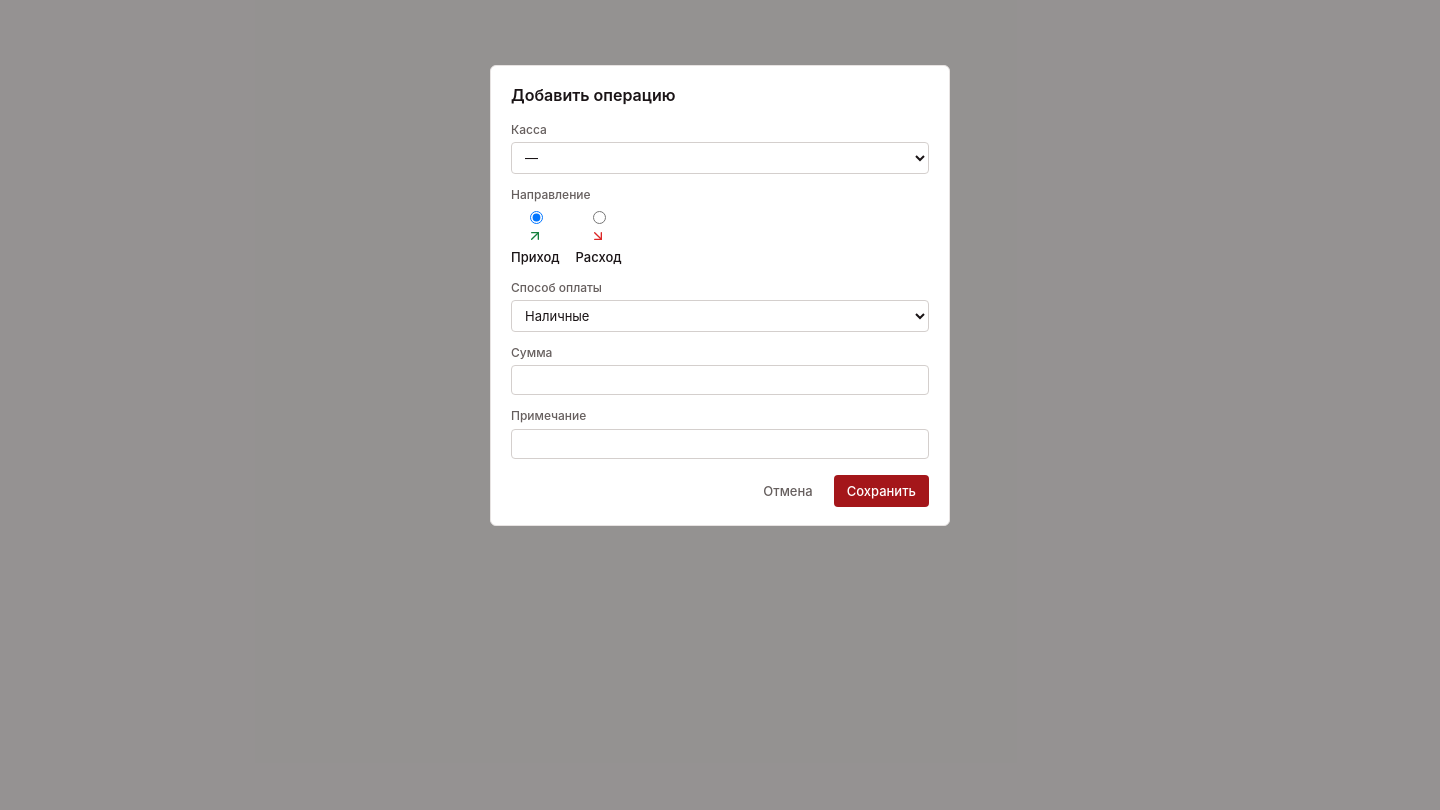
CashOperationModal › показывает ErrorBanner при insufficient_funds
The width and height of the screenshot is (1440, 810).
Select "Основная · Кафе Восток" in the dropdown labelled "Касса" at x=720, y=158, box [511,142,929,174]
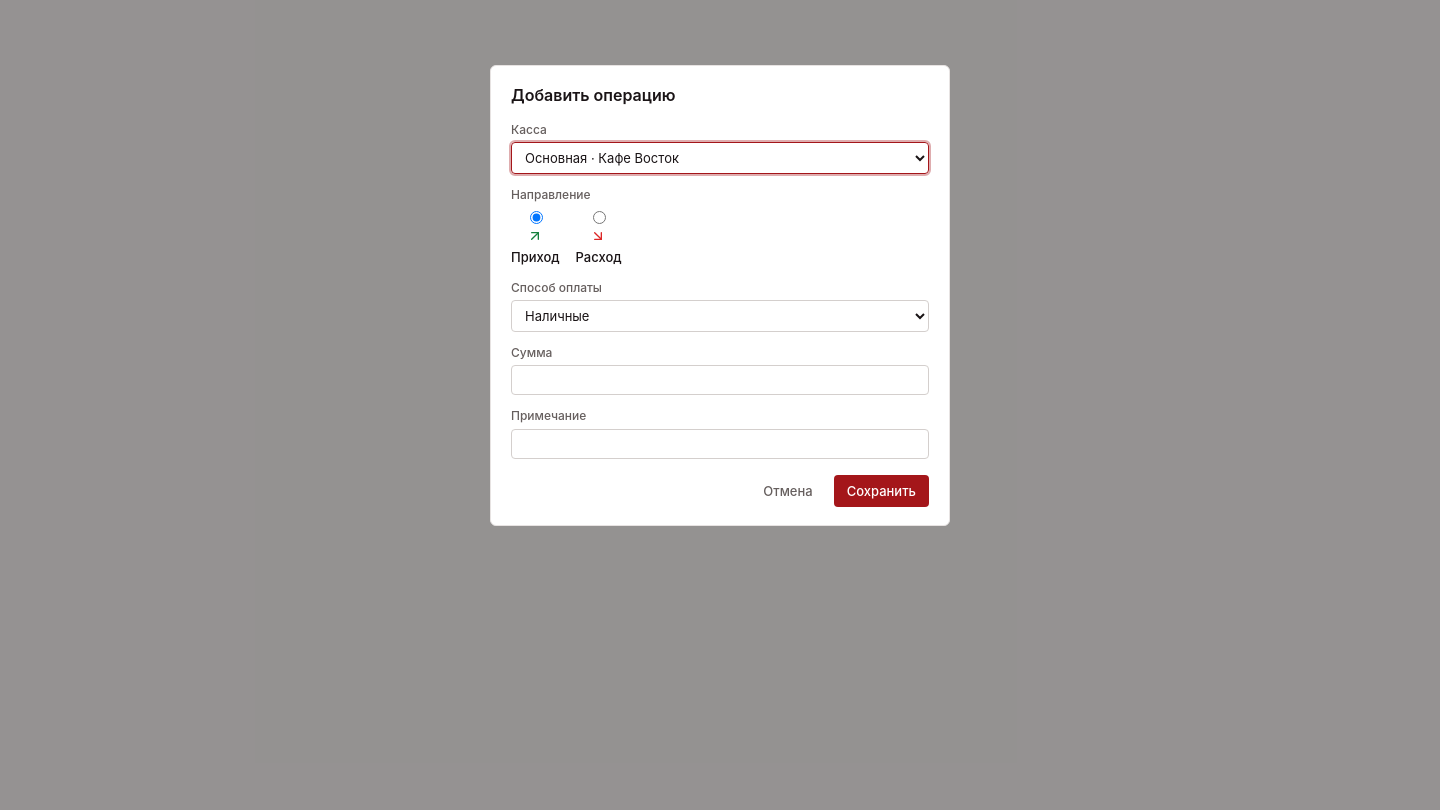
Click the radio button labelled "Расход" at x=600, y=217, box [593,211,606,224]
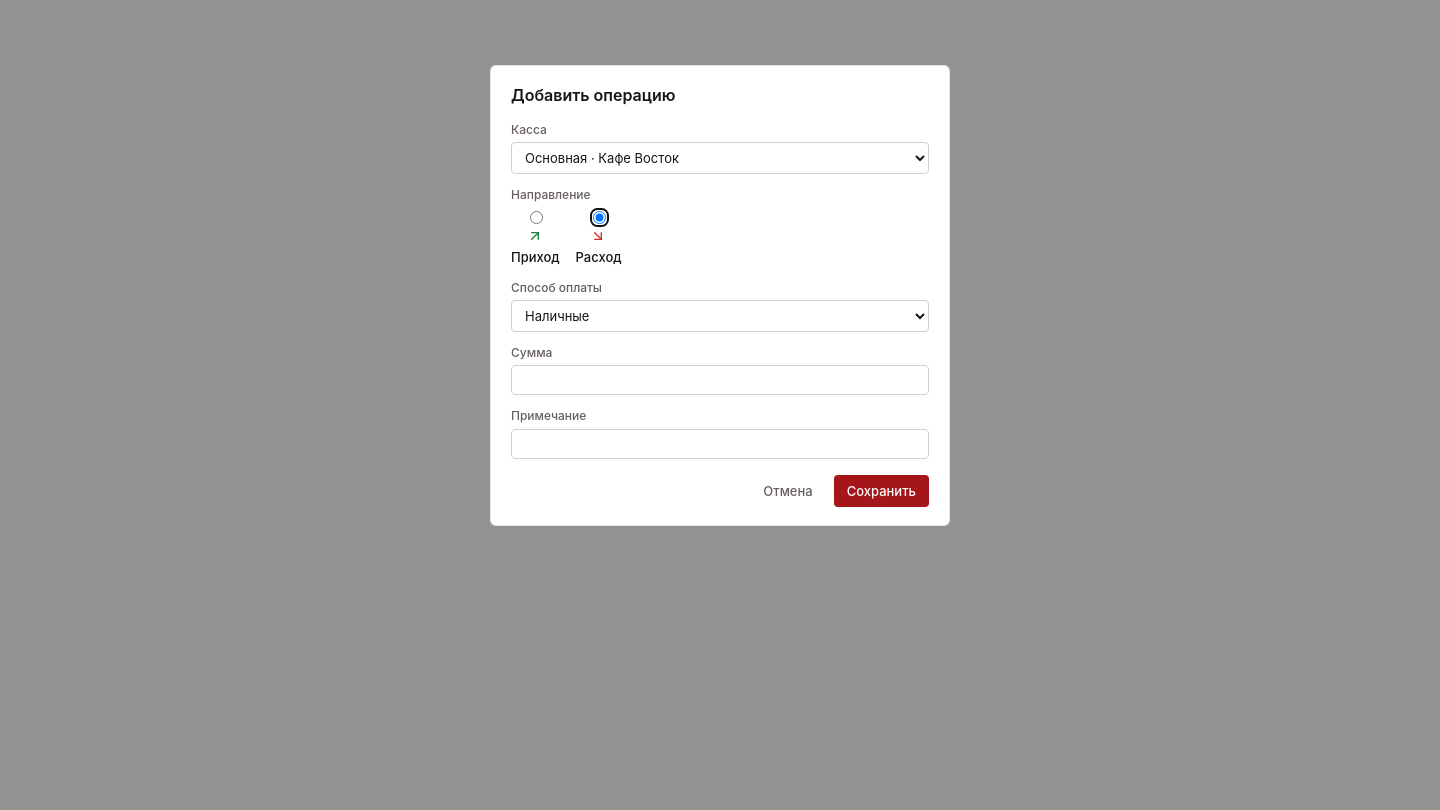
Type "99999" into the number field labelled "Сумма" at x=720, y=380, box [511,365,929,395]
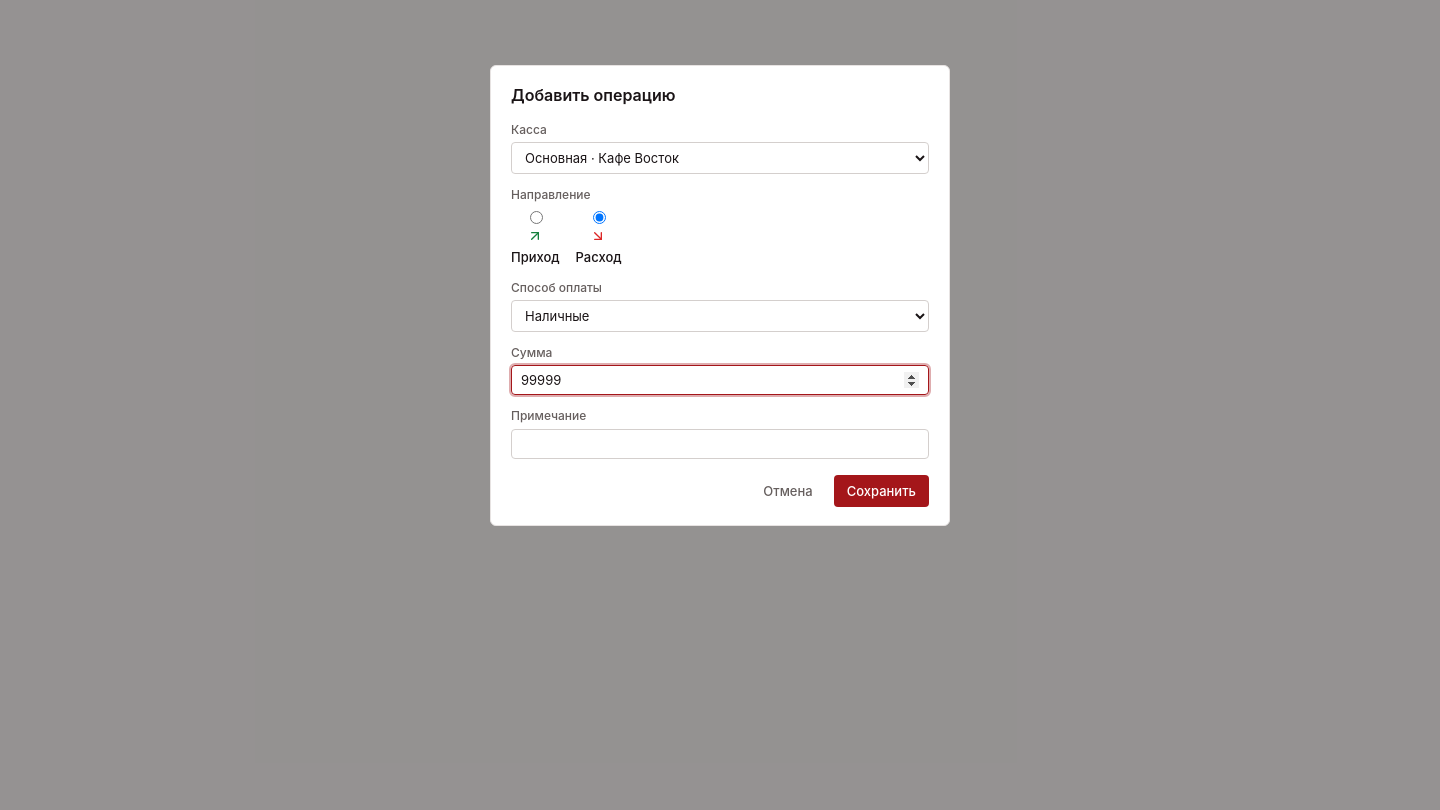
Click the button "Сохранить" at x=881, y=491, box [834,475,929,507]
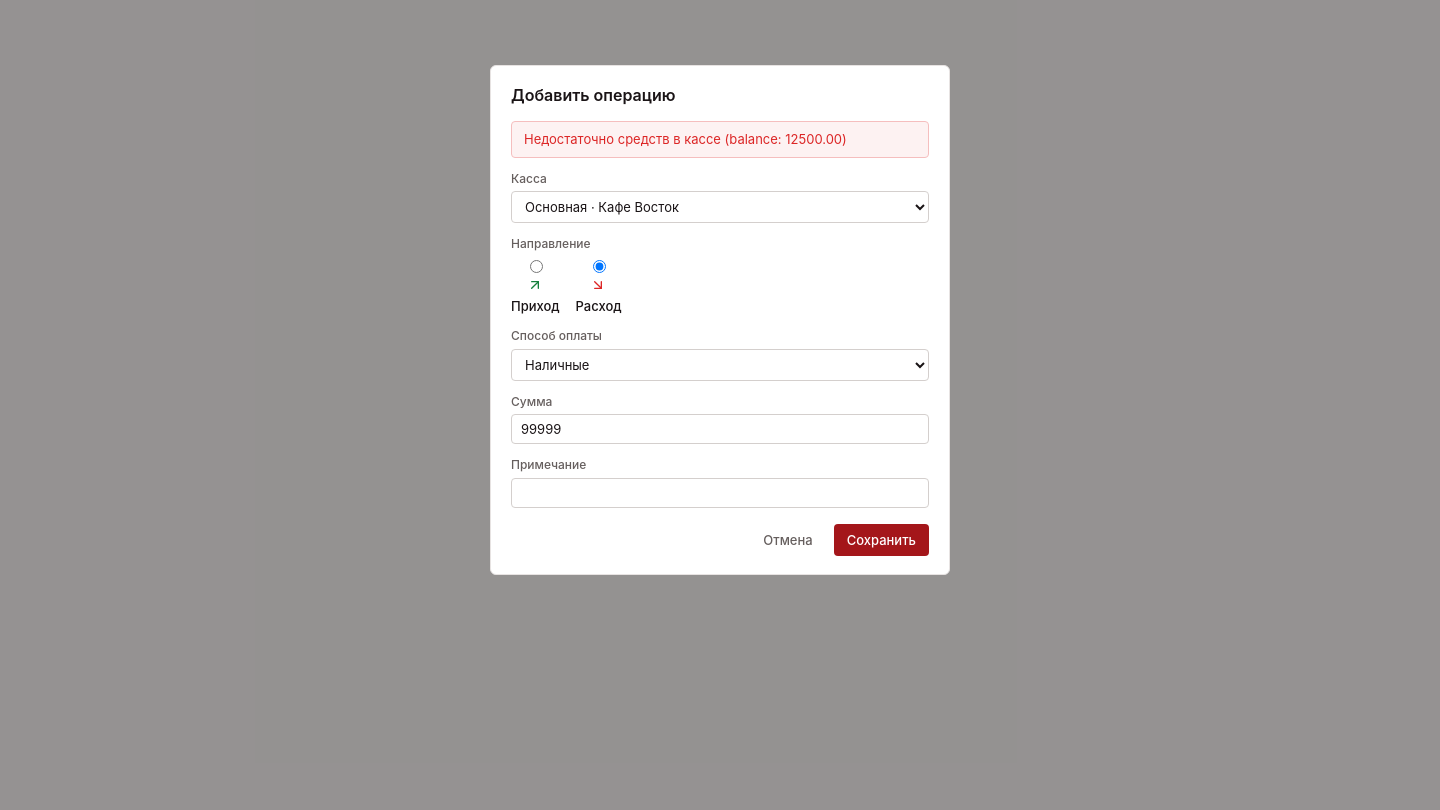
Now the message shows "Недостаточно средств в кассе", box [524,131,847,147]
